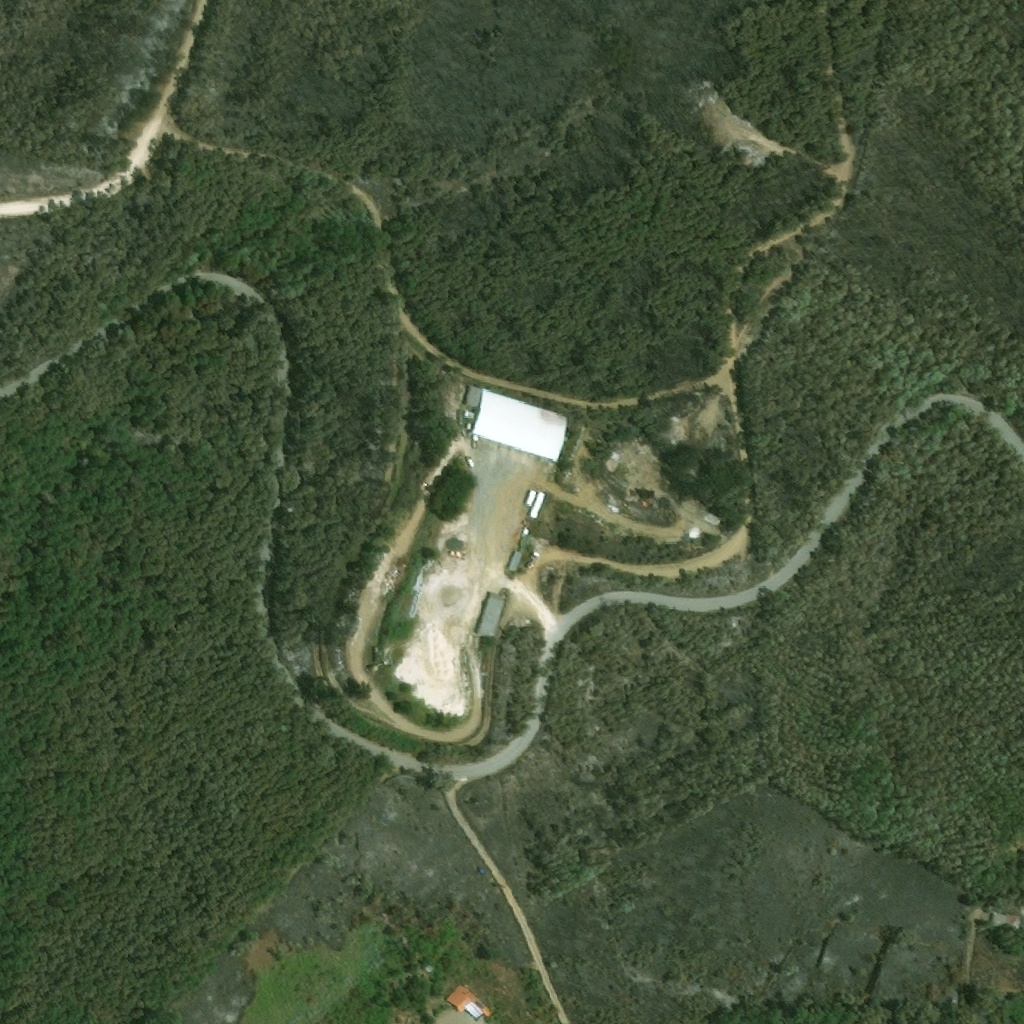0 no-damage: (466, 385, 569, 462), (447, 985, 494, 1021), (475, 590, 508, 637), (527, 490, 548, 519), (511, 550, 523, 571), (465, 411, 476, 418)
